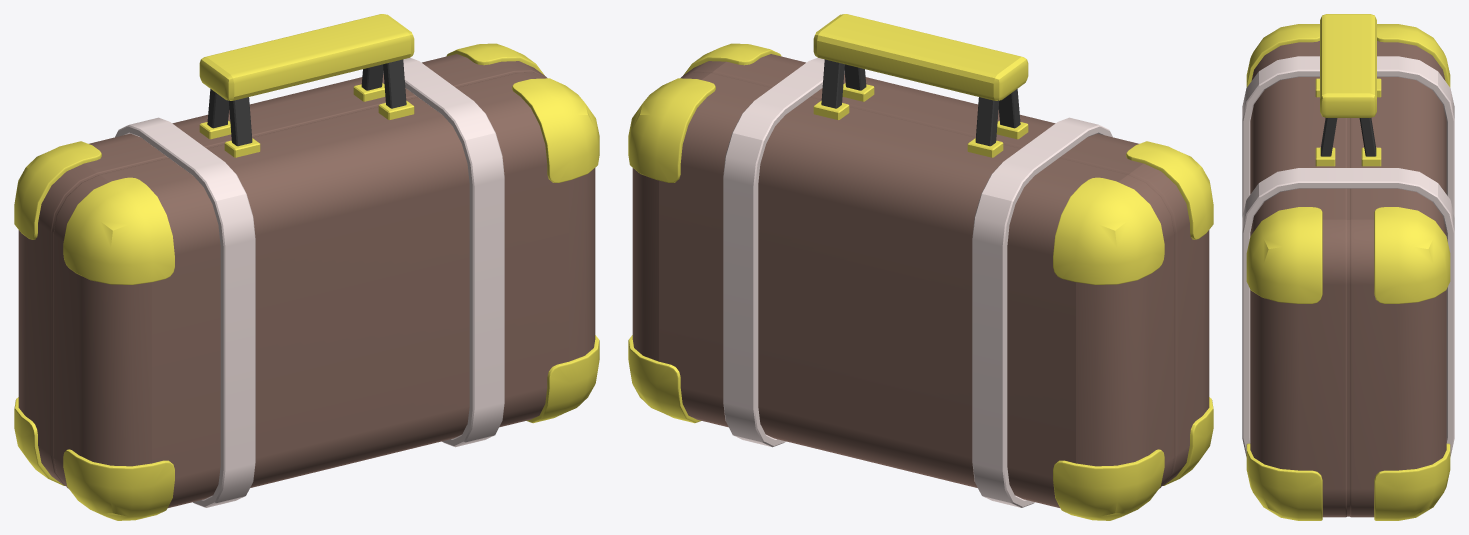
3 renders of one model, left to right at view 1: azimuth 30°, elevation 25°; view 2: azimuth 150°, elevation 25°; view 3: azimuth 270°, elevation 25°, orthographic. The views are drawn at different scales.
Visible parts, largest first — view 1: l3; view 2: l3; view 3: l3.
Part boxes in pixels (<box>): l3: <box>14,14,599,520</box>; l3: <box>628,14,1213,520</box>; l3: <box>1242,14,1454,520</box>.
Size of the model in its own units: 102 by 76.25 by 39.41.
Materials: 1 (1 with a texture image).
